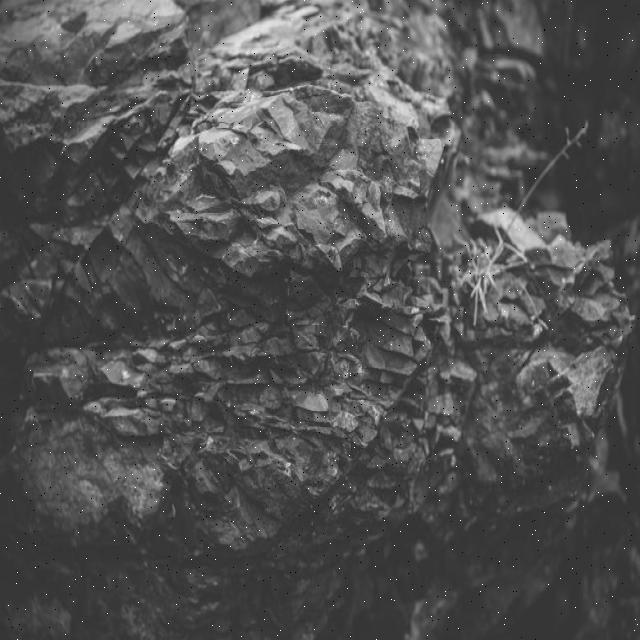Igneous: (1, 1, 633, 632)
